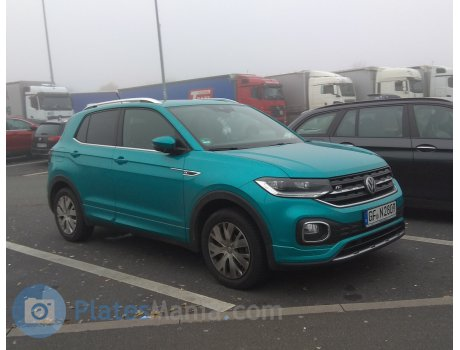License Plates: (365, 204, 397, 222)
